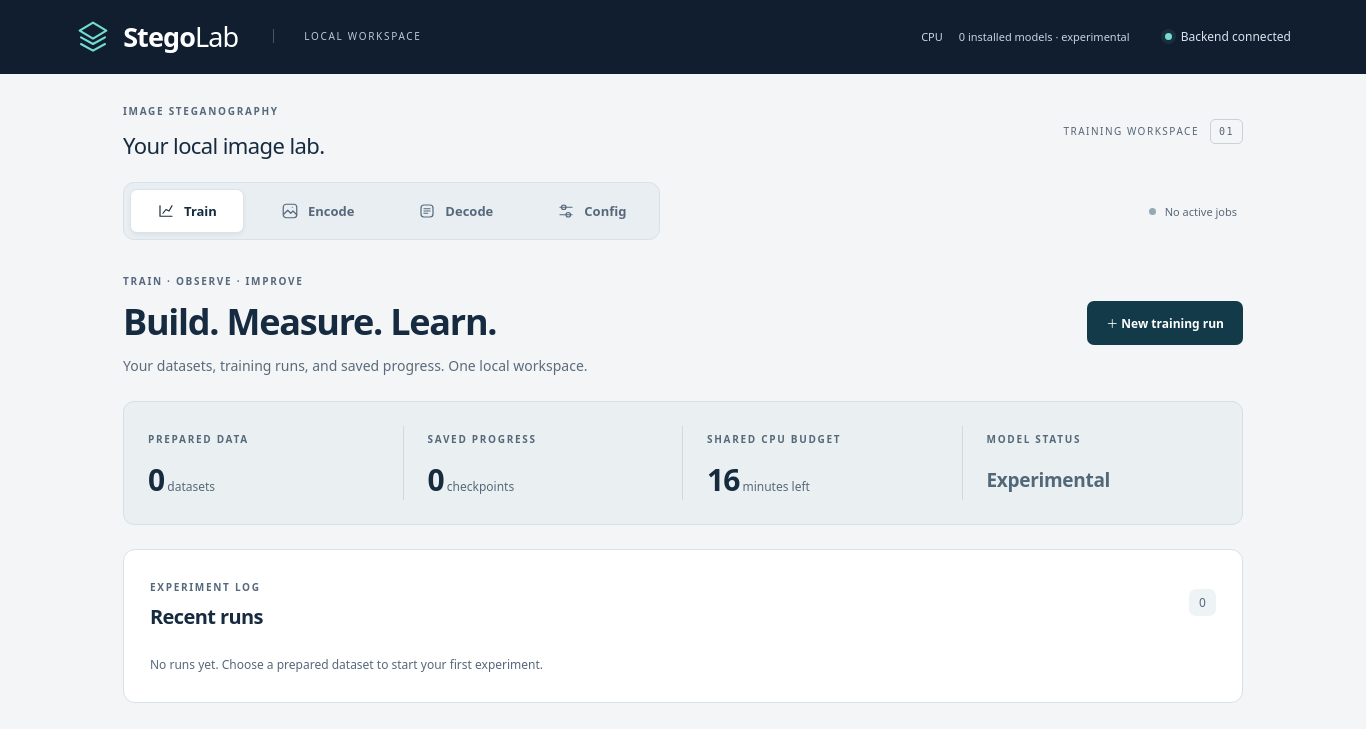
Test case: workspace › retries an uncertain save with the same identifier and submitted value
This screenshot has width=1366, height=729.
Click the tab "Config" at (592, 211), box [530,189,653,233]
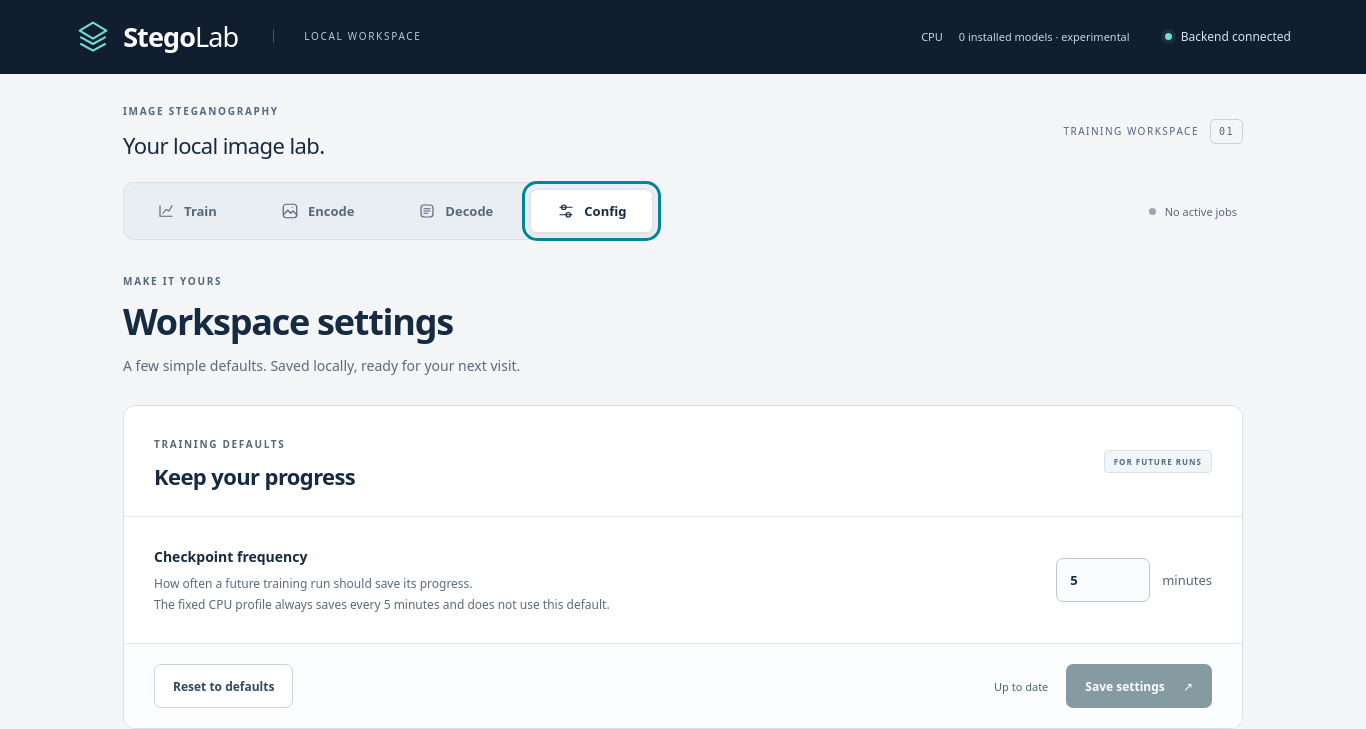
Replace the text in the number field labelled "Checkpoint frequency" with "9" at (1103, 580), box [1056,558,1150,602]
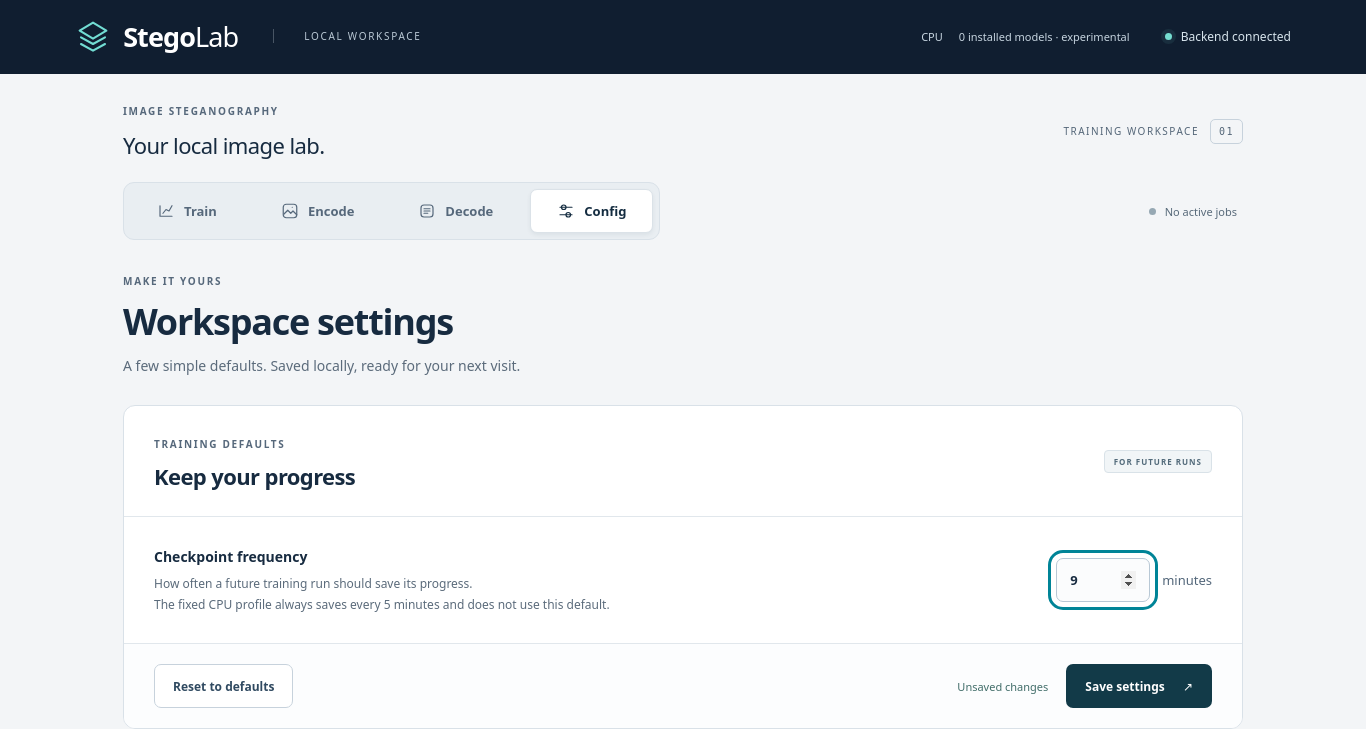
Click the button "Save settings ↗" at (1139, 686), box [1066,664,1212,708]
(page scrolled)
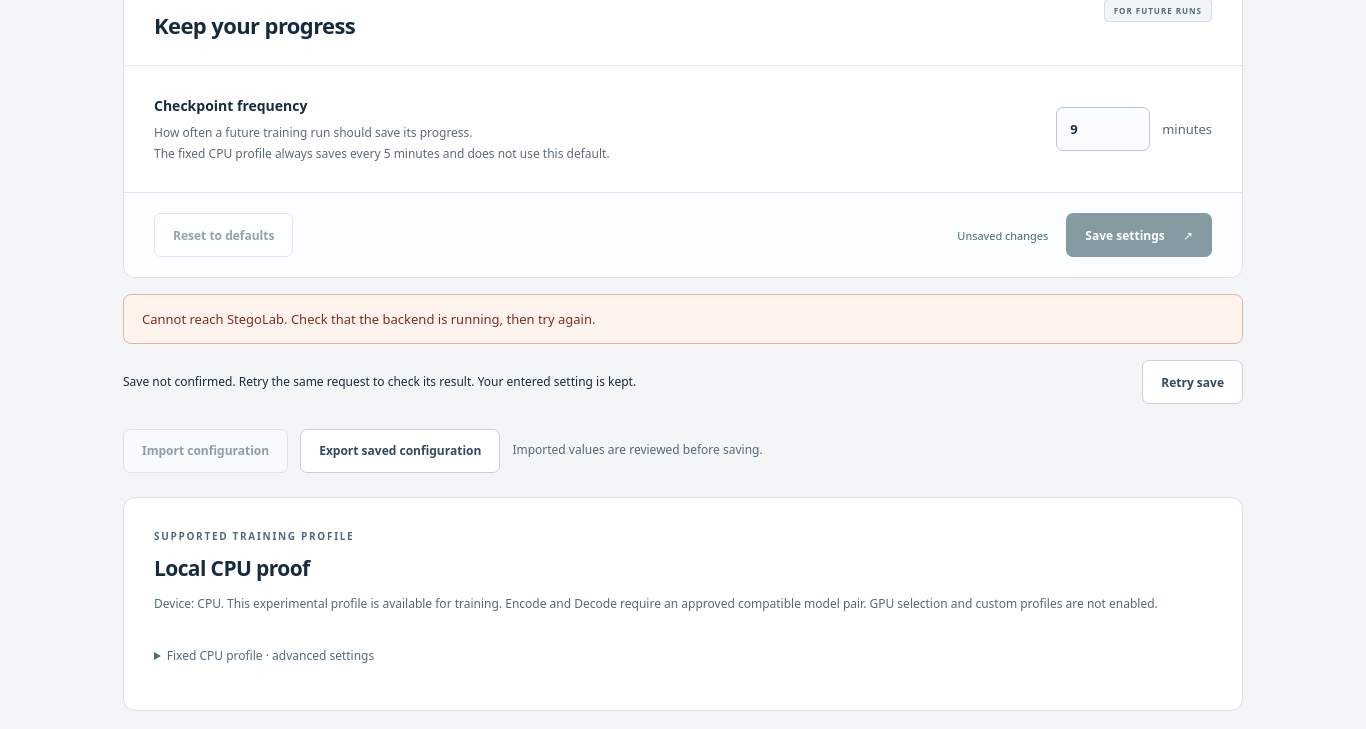
Expected: the number field labelled "Checkpoint frequency" is disabled, [1056,107,1150,151]
Click the button "Retry save" at (1193, 382), box [1142,360,1243,404]
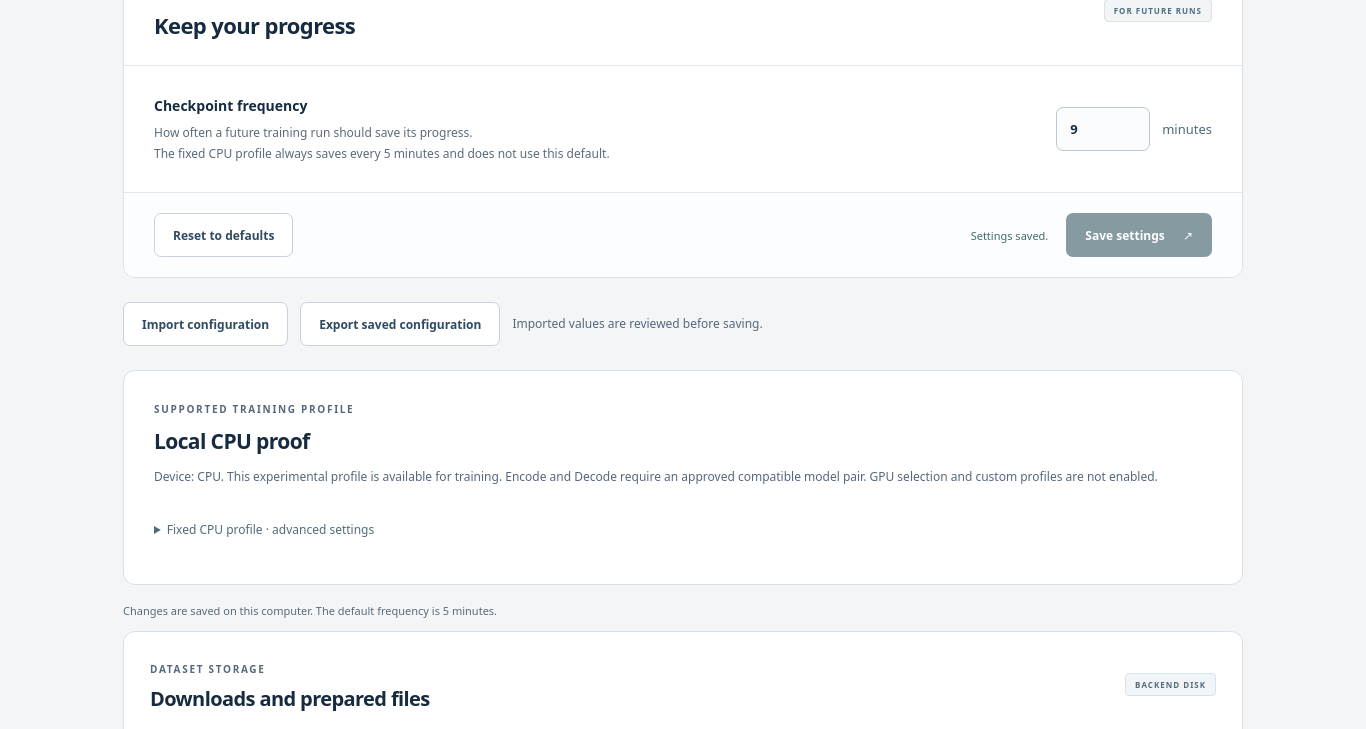
Expected: the text "Settings saved." is shown, [971,228,1048,243]
